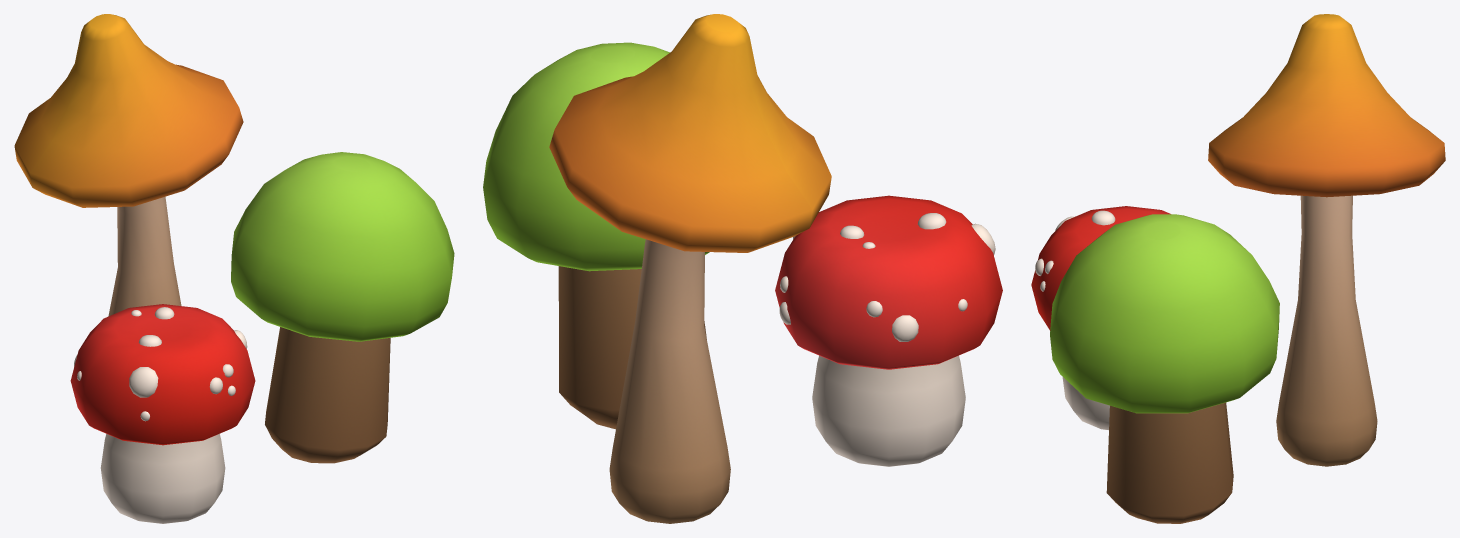
The model's file is Mushrooms.fbx.
3 renders of one model, left to right at view 1: azimuth 30°, elevation 25°; view 2: azimuth 150°, elevation 25°; view 3: azimuth 270°, elevation 25°, orthographic. The views are drawn at different scales.
Visible parts, largest first — view 1: Mushroom02, Mushroom03, Mushroom01; view 2: Mushroom03, Mushroom01, Mushroom02; view 3: Mushroom02, Mushroom03, Mushroom01.
Boxes of the visible parts, x1,y1,x2,y2 form: Mushroom02: (231, 152, 454, 463); Mushroom03: (14, 14, 243, 316); Mushroom01: (70, 304, 255, 523); Mushroom03: (549, 14, 831, 523); Mushroom01: (775, 195, 1002, 466); Mushroom02: (483, 42, 709, 429); Mushroom02: (1050, 214, 1279, 523); Mushroom03: (1208, 14, 1445, 466); Mushroom01: (1031, 206, 1170, 430).
Size of the model in its own units: 233 by 241 by 217.
